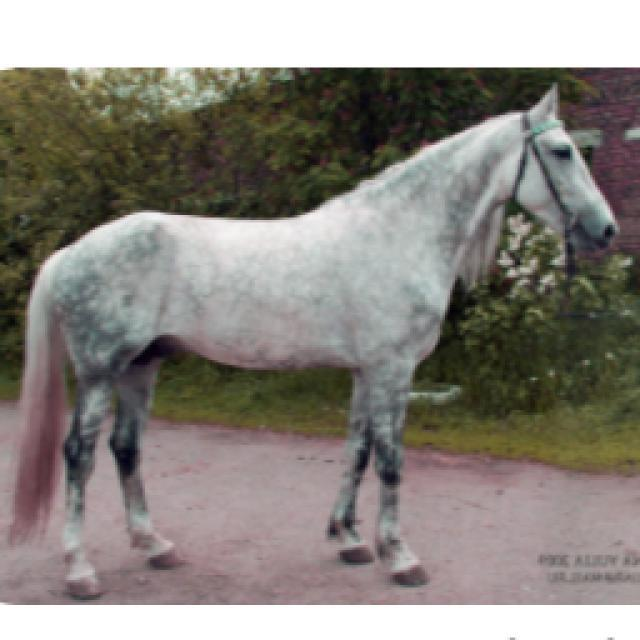Horse: (2, 78, 622, 598)
